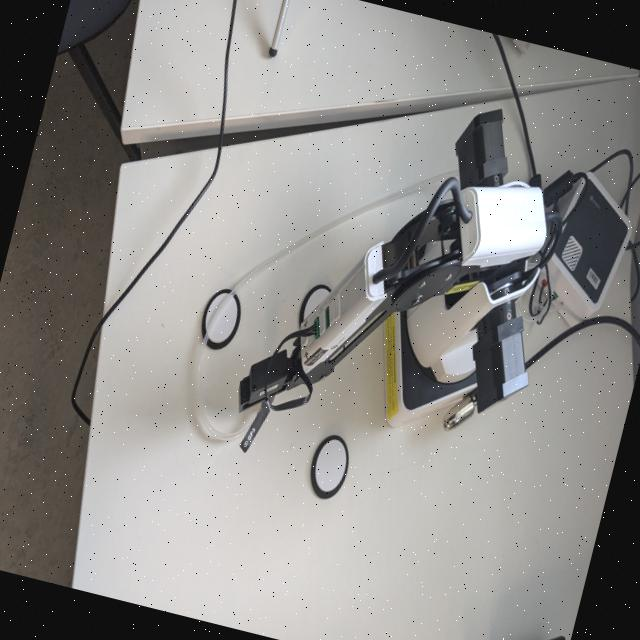Robot-end-effector-HF8z: (229, 331, 302, 429)
